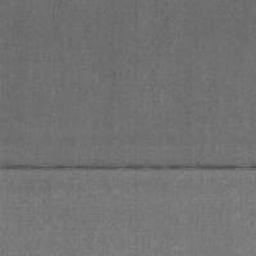Welding line: (0, 163, 256, 173)
